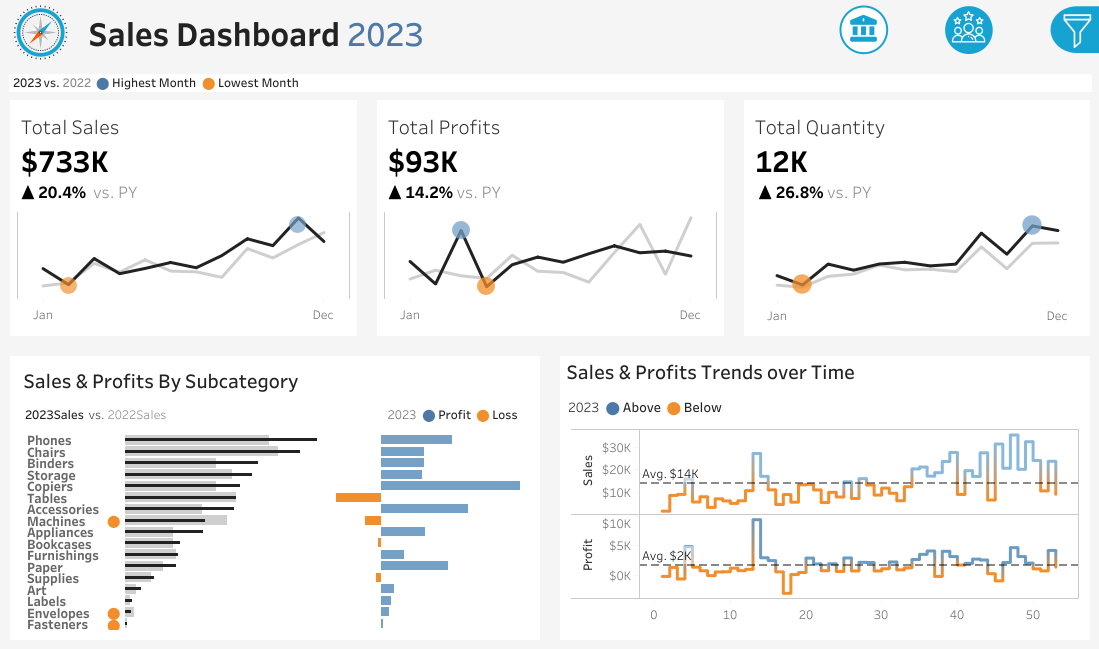

What the dashboard file says about the page in this screenshot:
{"tool":"tableau","page":{"name":"Sales Dashboard","canvas":[1100,650],"ordinal":1},"visuals":[{"type":"image","param":"C:/Users/Harrison/Downloads/TABLEAU DATA/sales-dashboard-project/sales-dashboard","box":[0,0,82,65]},{"type":"text","box":[82,0,1018,65]},{"type":"dashboard-object","box":[812,1,105,58]},{"type":"dashboard-object","box":[917,1,105,58]},{"type":"blank","box":[942,10,147,49]},{"type":"text","box":[942,59,147,34]},{"type":"worksheet","title":"Legend KPI","mark":"Automatic","box":[0,65,1100,35]},{"type":"parameter","param":"[Parameters].[Parameter 0944498650750980]","box":[942,93,147,52]},{"type":"worksheet","title":"KPI Sales","mark":"Automatic","rows":["Calculation_0944498656239622"],"cols":["Order Date"],"box":[0,100,367,246]},{"type":"worksheet","title":"KPI Profits","mark":"Automatic","rows":["Calculation_0944498678583315"],"cols":["Order Date"],"box":[367,100,367,246]},{"type":"worksheet","title":"KPI Quantity","mark":"Line","rows":["Calculation_1010469447430152"],"cols":["Order Date"],"box":[734,100,366,246]},{"type":"blank","box":[942,145,147,47]},{"type":"text","box":[942,192,147,29]},{"type":"filter","title":"KPI Sales","param":"[federated.0c2b9on1gvkbu012eh3pb0r9xuzw].[none:Category:nk]","box":[942,221,147,52]},{"type":"filter","title":"KPI Sales","param":"[federated.0c2b9on1gvkbu012eh3pb0r9xuzw].[none:Sub-Category:nk]","box":[942,273,147,52]},{"type":"text","box":[942,325,147,29]},{"type":"filter","title":"KPI Sales","param":"[federated.0c2b9on1gvkbu012eh3pb0r9xuzw].[none:Region:nk]","box":[942,354,147,52]},{"type":"text","box":[560,356,530,31]},{"type":"text","box":[17,363,516,34]},{"type":"worksheet","title":"Legend Subcategory (2)","mark":"Automatic","box":[560,387,530,31]},{"type":"worksheet","title":"Legend Subcategory","mark":"Automatic","box":[17,397,364,32]},{"type":"text","box":[381,397,152,32]},{"type":"filter","title":"KPI Sales","param":"[federated.0c2b9on1gvkbu012eh3pb0r9xuzw].[none:State:nk]","box":[942,406,147,52]},{"type":"worksheet","title":"Weekly Trends","mark":"Automatic","rows":["Calculation_0944498649657344","Calculation_0944498666344463"],"cols":["Order Date"],"box":[567,425.1,516,207.9]},{"type":"worksheet","title":"Subcategory Comparison","mark":"Bar","rows":["Sub-Category","Calculation_0964565011537920"],"cols":["CY Sales (copy)_0944498649980930","Calculation_0944498649657344","Calculation_0944498666344463"],"box":[17,429,516,204]},{"type":"filter","title":"KPI Sales","param":"[federated.0c2b9on1gvkbu012eh3pb0r9xuzw].[none:City:nk]","box":[942,458,147,52]}]}

Visuals, with their boxes in screenshot pixels (x1, y1, x2, y2), scaled from the page's 1100x650 canvas onto the 1099x649 screenshot:
image: (left=0, top=0, right=82, bottom=65)
text: (left=82, top=0, right=1098, bottom=65)
dashboard-object: (left=811, top=1, right=916, bottom=59)
dashboard-object: (left=916, top=1, right=1021, bottom=59)
blank: (left=941, top=10, right=1088, bottom=59)
text: (left=941, top=59, right=1088, bottom=93)
"Legend KPI" worksheet: (left=0, top=65, right=1098, bottom=100)
parameter: (left=941, top=93, right=1088, bottom=145)
"KPI Sales" worksheet: (left=0, top=100, right=367, bottom=345)
"KPI Profits" worksheet: (left=367, top=100, right=733, bottom=345)
"KPI Quantity" worksheet (Line marks): (left=733, top=100, right=1098, bottom=345)
blank: (left=941, top=145, right=1088, bottom=192)
text: (left=941, top=192, right=1088, bottom=221)
"KPI Sales" filter: (left=941, top=221, right=1088, bottom=273)
"KPI Sales" filter: (left=941, top=273, right=1088, bottom=324)
text: (left=941, top=324, right=1088, bottom=353)
"KPI Sales" filter: (left=941, top=353, right=1088, bottom=405)
text: (left=559, top=355, right=1089, bottom=386)
text: (left=17, top=362, right=533, bottom=396)
"Legend Subcategory (2)" worksheet: (left=559, top=386, right=1089, bottom=417)
"Legend Subcategory" worksheet: (left=17, top=396, right=381, bottom=428)
text: (left=381, top=396, right=533, bottom=428)
"KPI Sales" filter: (left=941, top=405, right=1088, bottom=457)
"Weekly Trends" worksheet: (left=566, top=424, right=1082, bottom=632)
"Subcategory Comparison" worksheet (Bar marks): (left=17, top=428, right=533, bottom=632)
"KPI Sales" filter: (left=941, top=457, right=1088, bottom=509)
